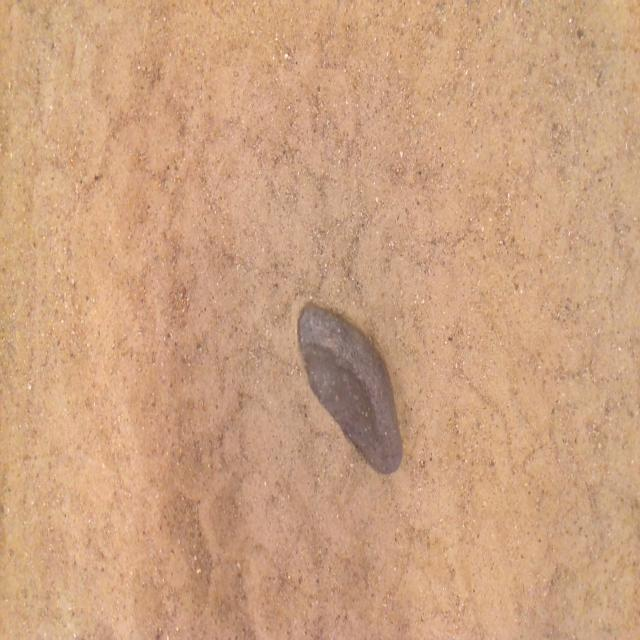rock: (298, 303, 402, 473)
